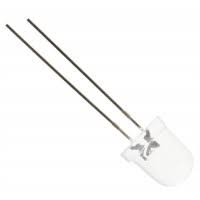LED: (114, 100, 199, 192)
